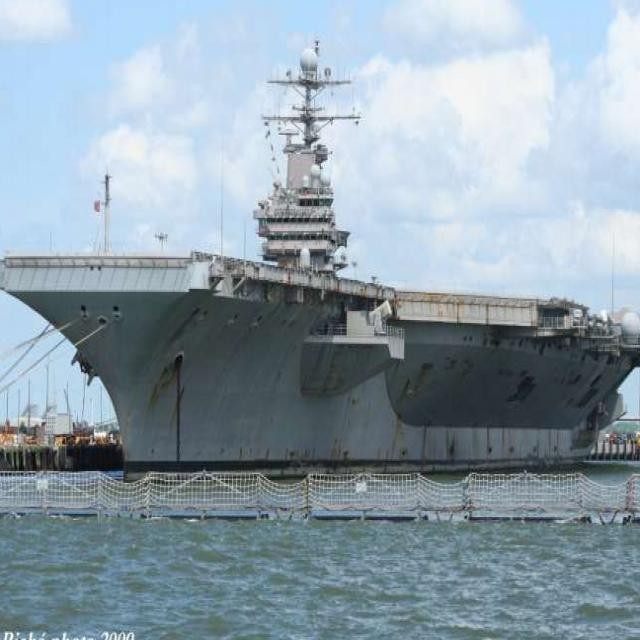Portanaves: (1, 28, 640, 484)
